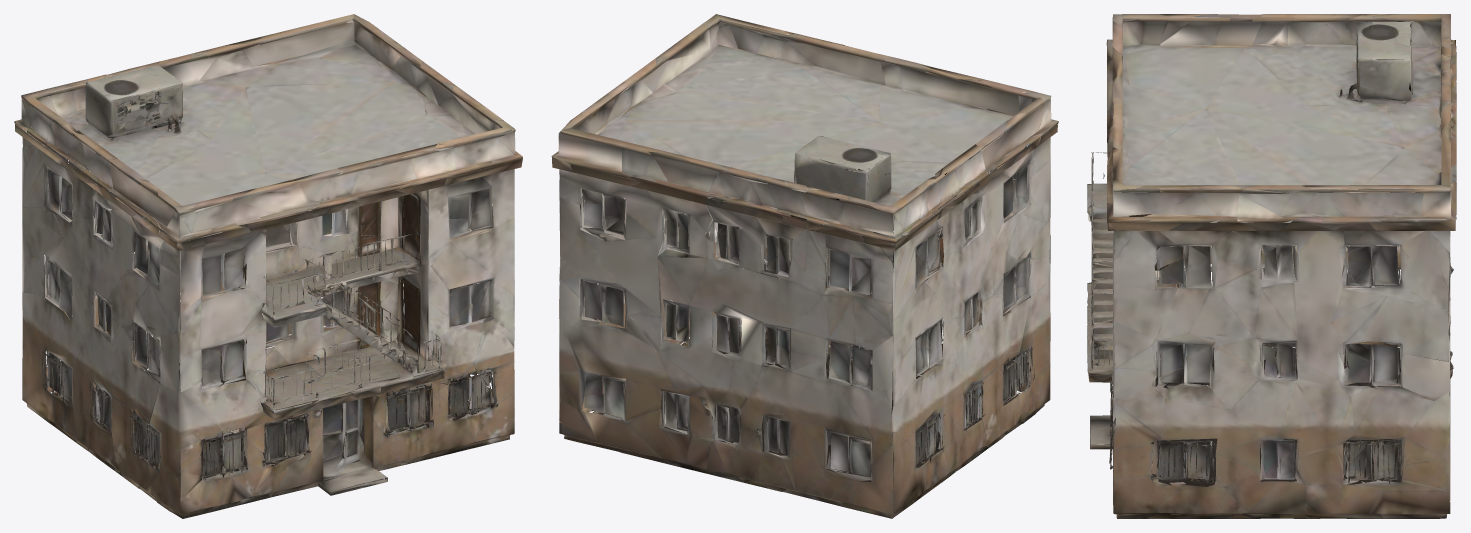
Rendered from apt-01-stucco.far.glb.
3 renders of one model, left to right at view 1: azimuth 30°, elevation 25°; view 2: azimuth 150°, elevation 25°; view 3: azimuth 270°, elevation 25°, orthographic. The views are drawn at different scales.
Parts seen in each view (by area): view 1: geometry_0; view 2: geometry_0; view 3: geometry_0.
Boxes of the visible parts, x1,y1,x2,y2 form: geometry_0: [14, 14, 522, 518]; geometry_0: [551, 14, 1058, 518]; geometry_0: [1087, 14, 1456, 518].
Bounding box in the file's own units: 1.9 × 1.72 × 1.65.
Materials: 1 (1 with a texture image).
